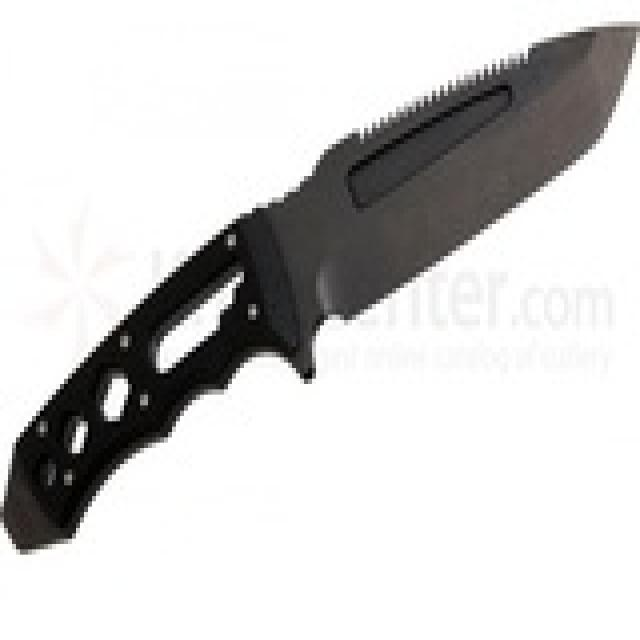Knife: (0, 12, 640, 567)
